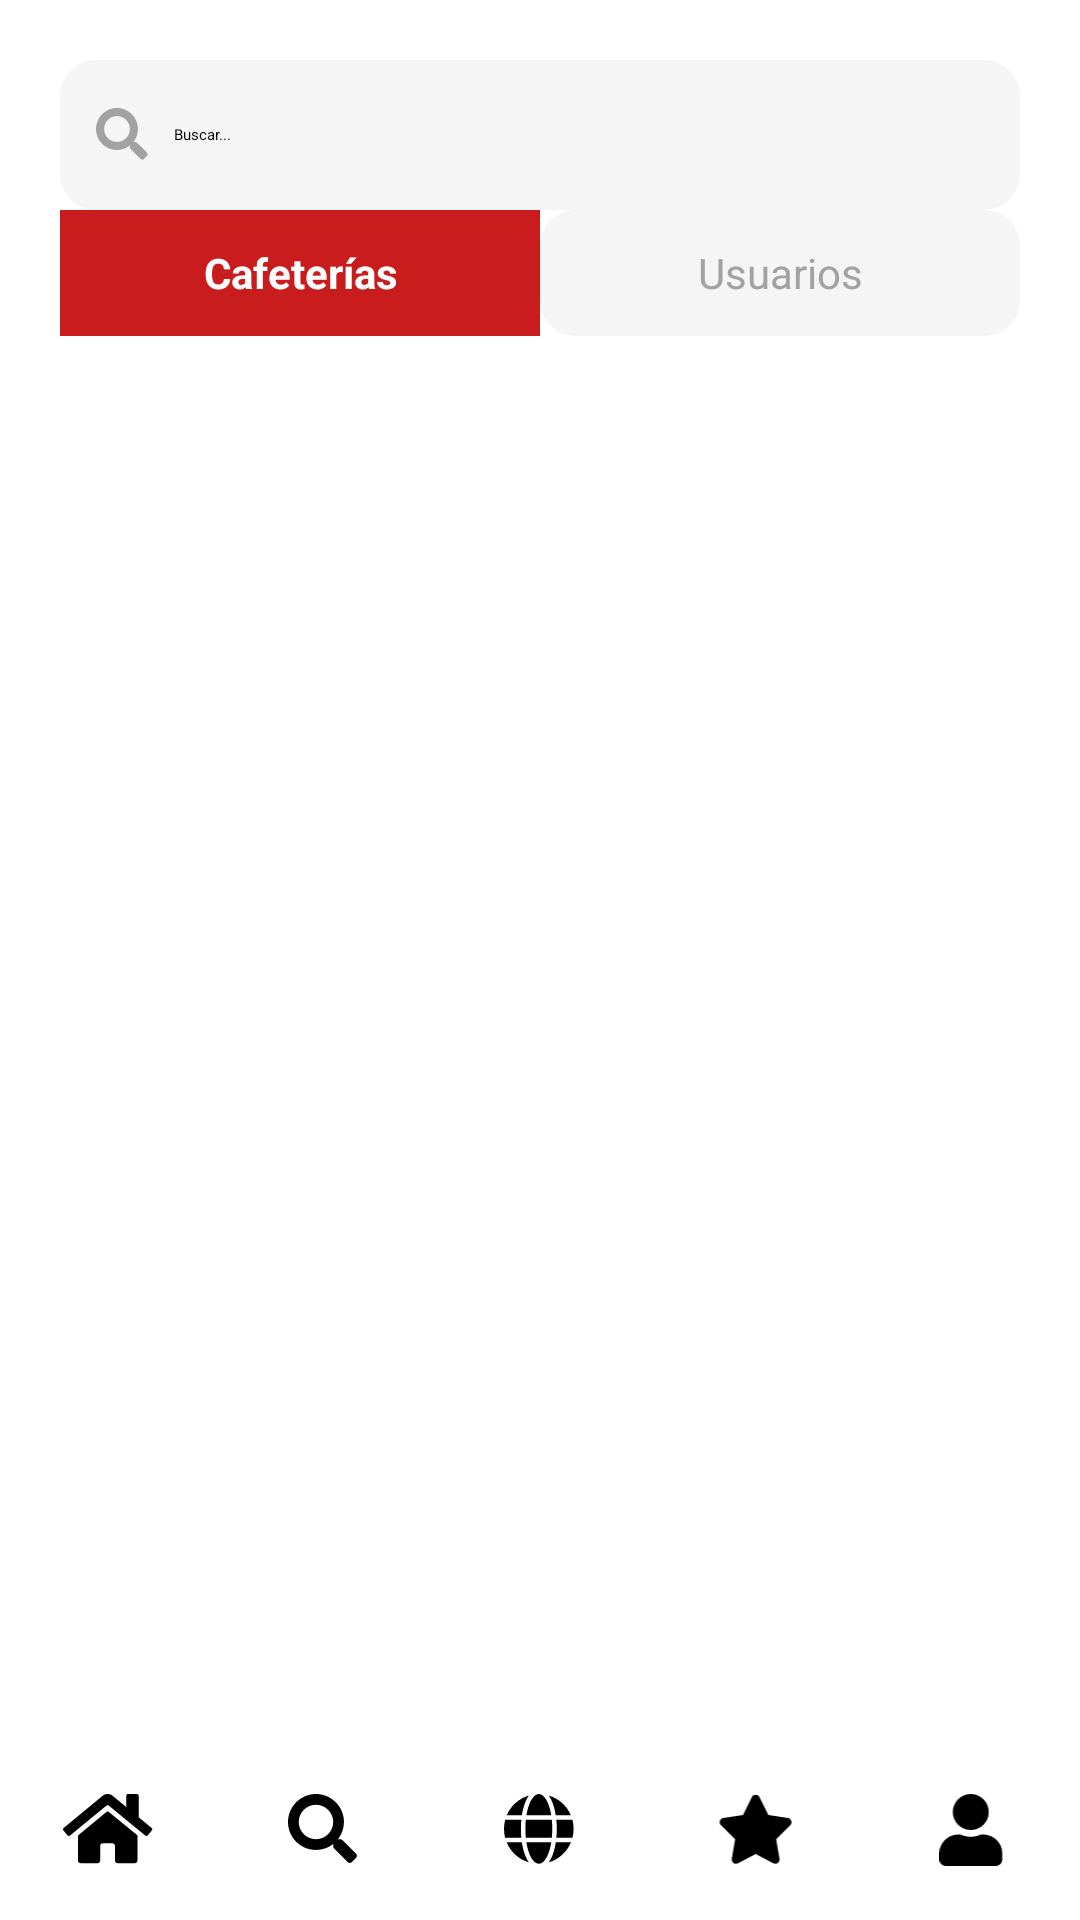

Locate icon controls on the screen. Image size 1080x1920, boxes as [x1, y1, x2, y2].
globe: [504, 1794, 574, 1864]
home: [63, 1794, 153, 1864]
search: [96, 108, 148, 160], [288, 1794, 357, 1863]
star: [719, 1794, 792, 1864]
user: [939, 1794, 1003, 1866]
